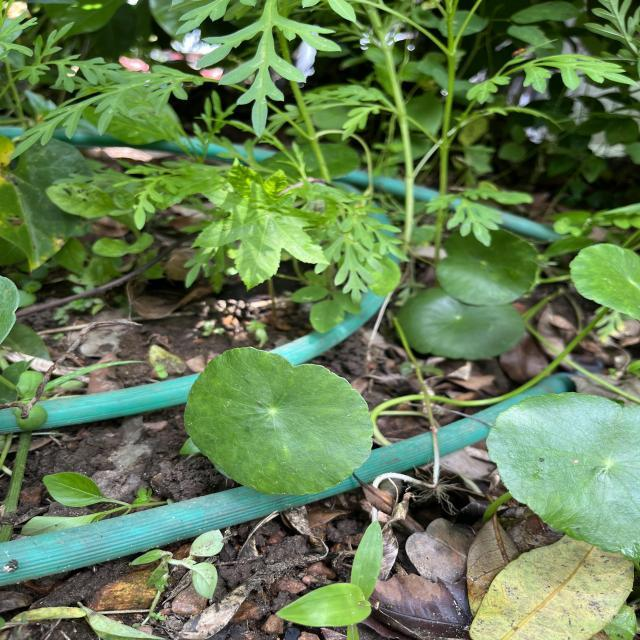Bacopa monnieri: (179, 344, 378, 499), (482, 388, 640, 564)
